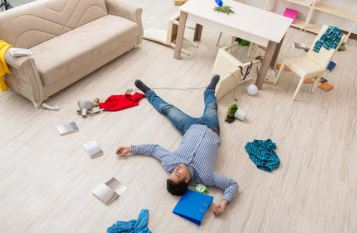falling: (113, 71, 238, 215)
